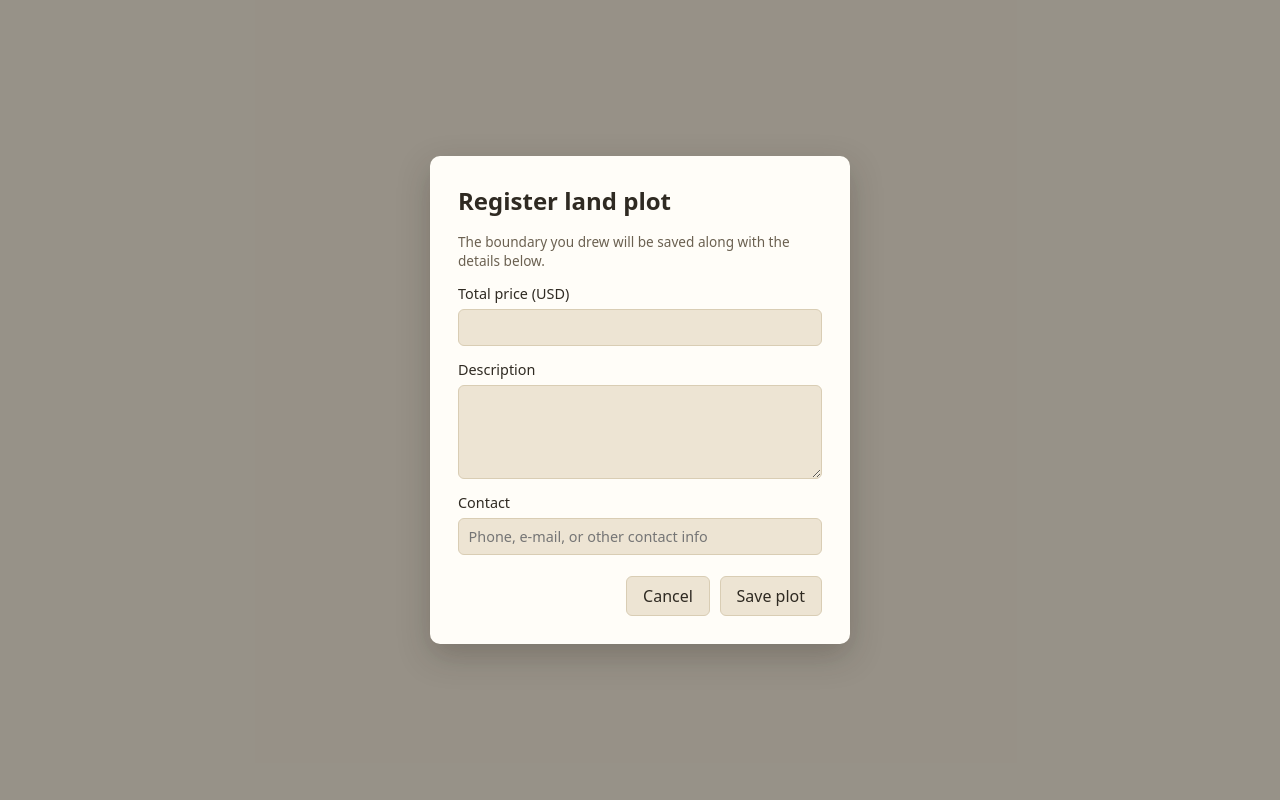
Test case: LandPlotForm › rejects a description shorter than 5 characters
The width and height of the screenshot is (1280, 800).
Type "1000" into the number field labelled "Total price (USD)". click: (640, 327)
box: x1=458 y1=309 x2=822 y2=346
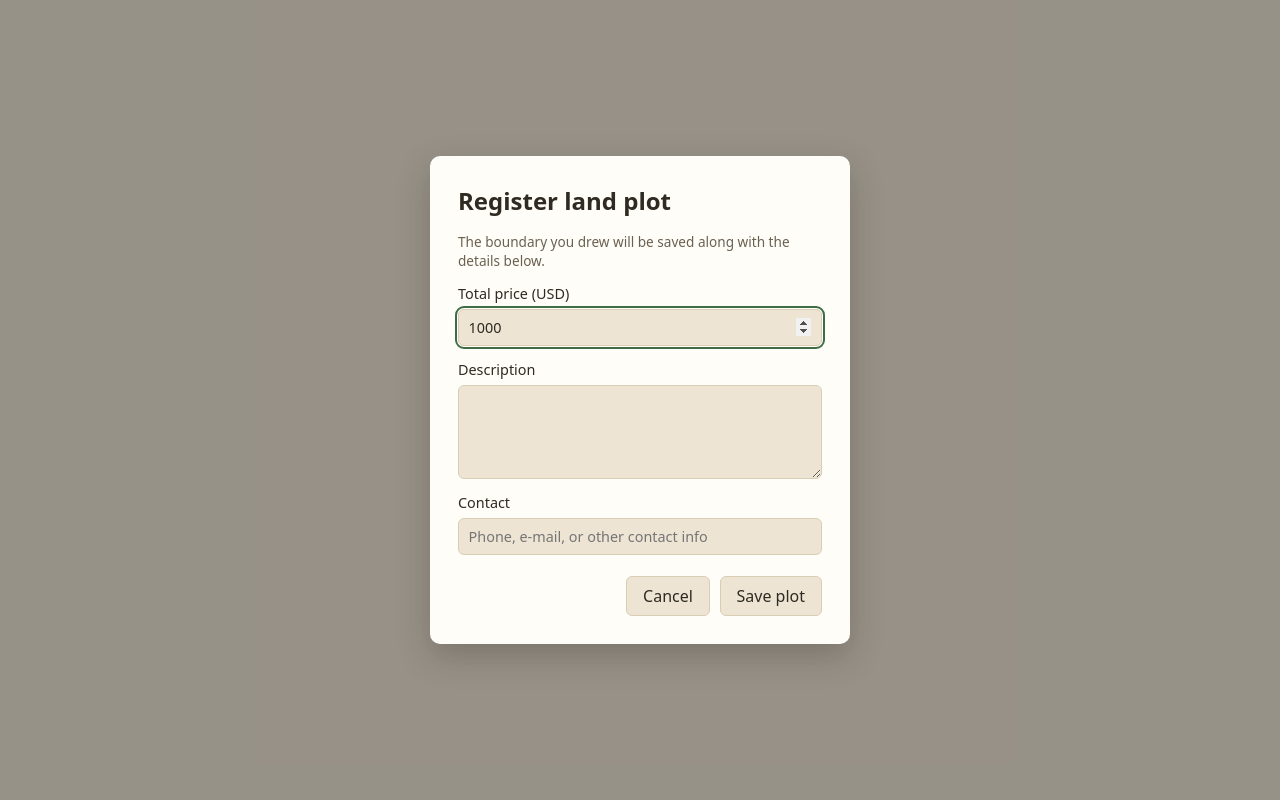
Type "abc" into the text box labelled "Description". click: (640, 432)
box: x1=458 y1=385 x2=822 y2=479
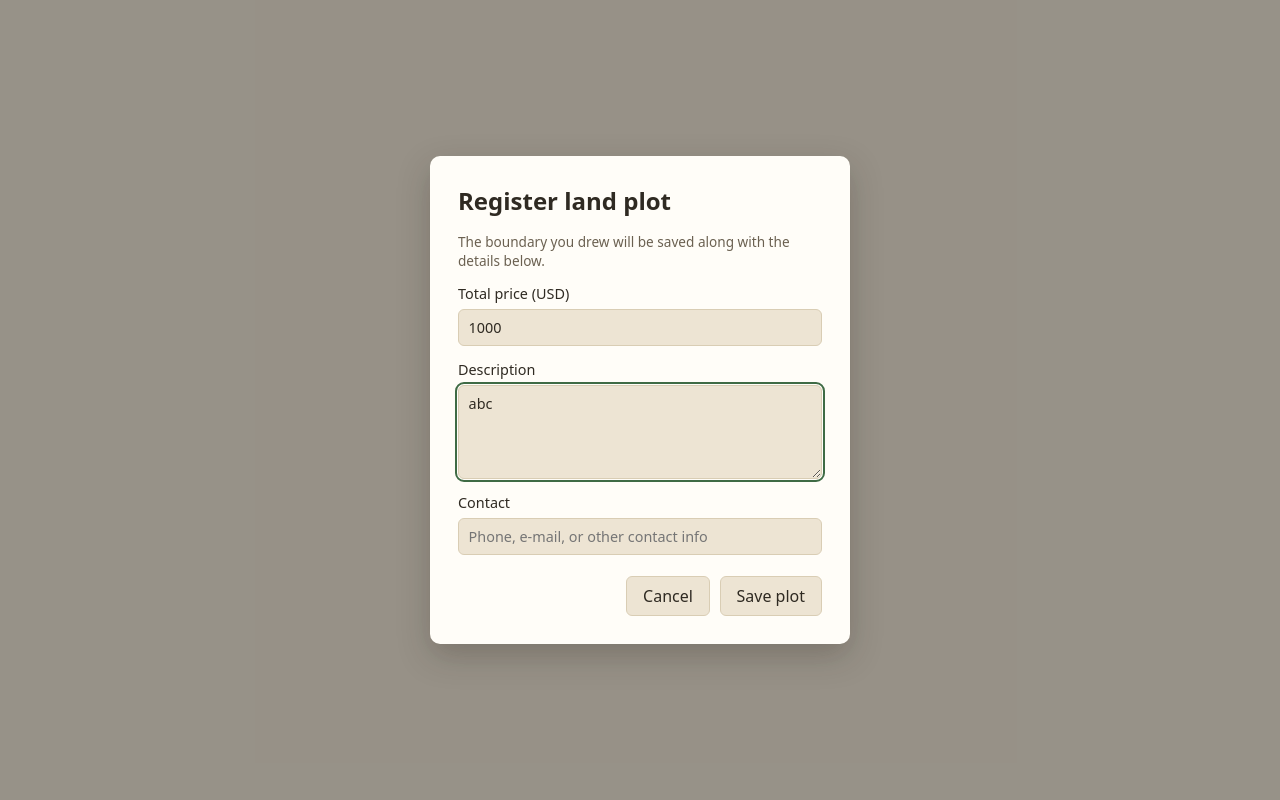
Type "owner@example.com" into the field labelled "Contact". click: (640, 536)
box: x1=458 y1=518 x2=822 y2=555
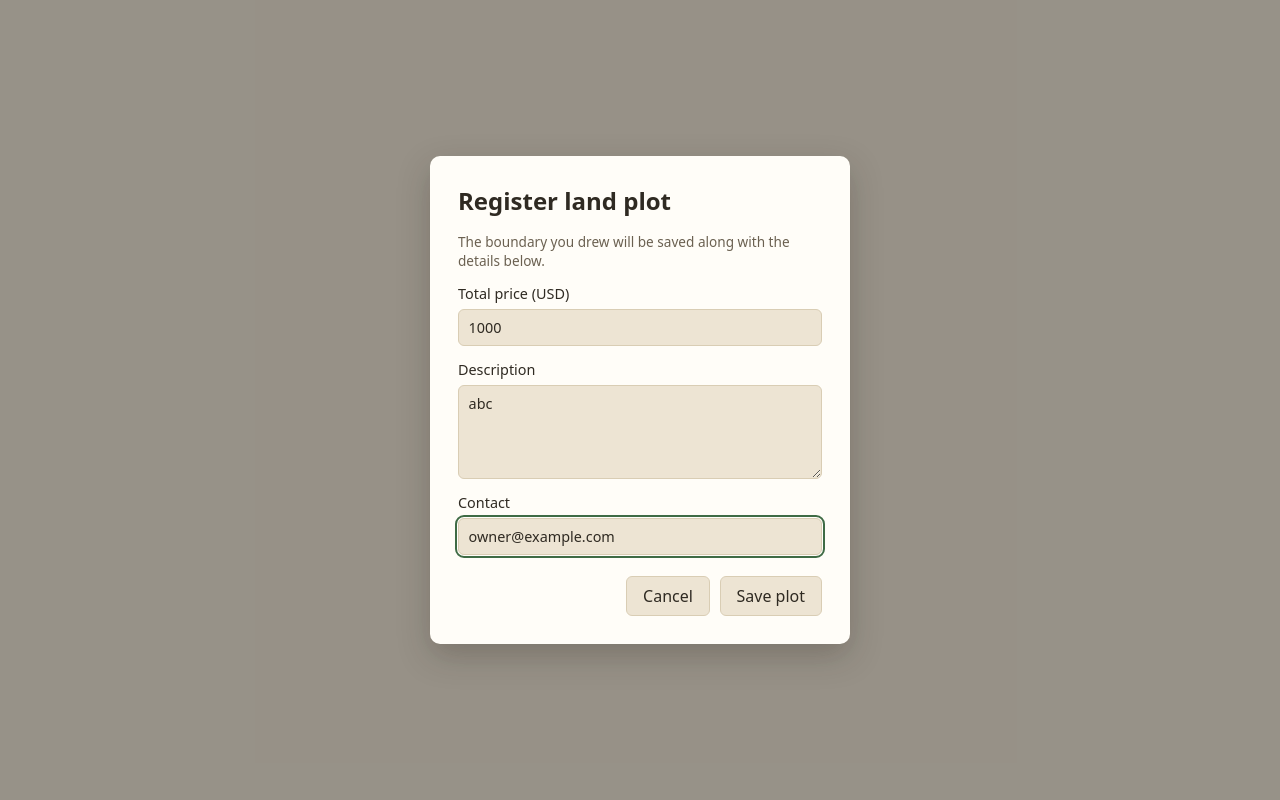
Click the button "Save plot". click: (771, 596)
box: x1=720 y1=576 x2=822 y2=616
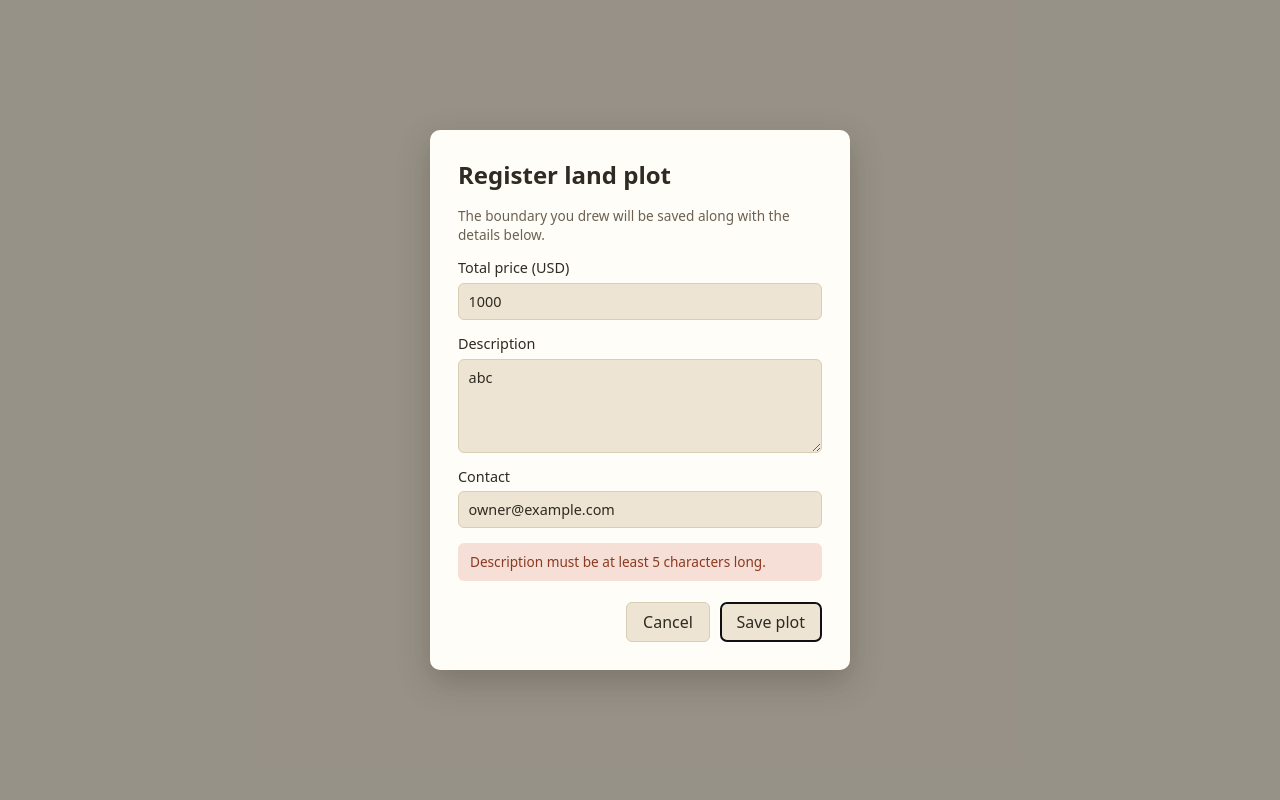
Now the text "Description must be at least 5 characters long." is shown, box x1=458 y1=543 x2=822 y2=581
